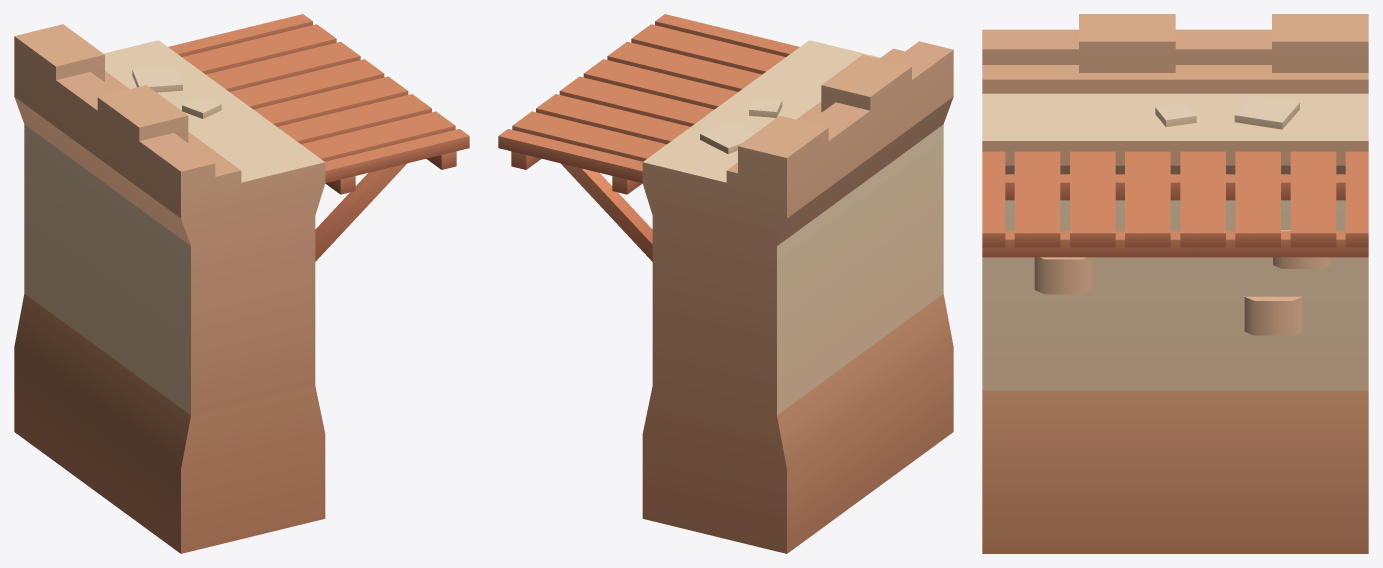
The model's file is wall-narrow-wood.glb.
3 renders of one model, left to right at view 1: azimuth 30°, elevation 25°; view 2: azimuth 150°, elevation 25°; view 3: azimuth 270°, elevation 25°, orthographic. The views are drawn at different scales.
Parts seen in each view (by area): view 1: wall-narrow-wood; view 2: wall-narrow-wood; view 3: wall-narrow-wood.
Part boxes in pixels (left/top/right/bottom): wall-narrow-wood: left=14, top=14, right=469, bottom=553; wall-narrow-wood: left=498, top=14, right=953, bottom=553; wall-narrow-wood: left=982, top=14, right=1368, bottom=553.
Size of the model in its own units: 1 by 1.31 by 1.
1 material, 1 textured.
